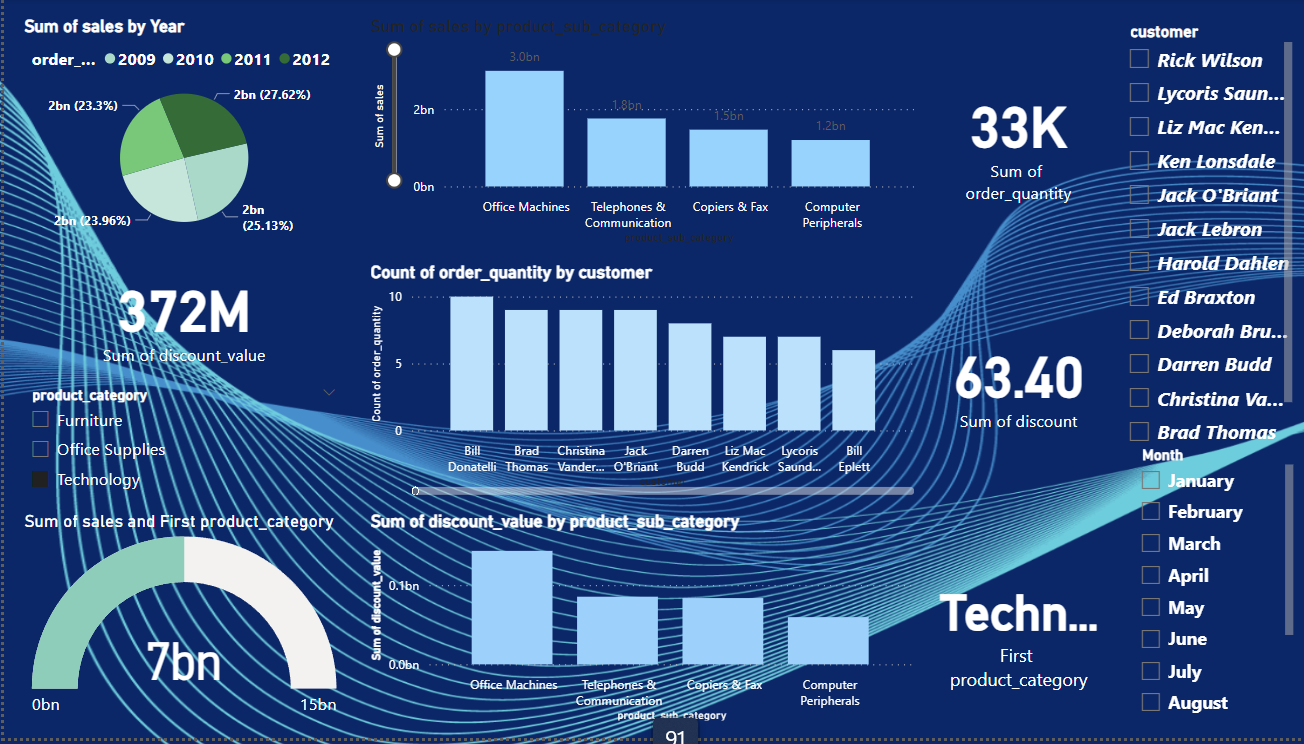

This screenshot's page, from the dashboard's own definition file:
{"tool":"powerbi","page":{"name":"Page 1","canvas":[1280,720],"ordinal":0},"visuals":[{"type":"pieChart","fields":{"Category":["clean_data.order_date.Variation.Date Hierarchy.Year"],"Y":["clean_data.sales"]},"box":[15.1,18.2,321,224.1],"z":0},{"type":"clusteredColumnChart","fields":{"Y":["clean_data.sales"],"Category":["clean_data.product_sub_category"]},"box":[351.3,18.2,539.1,225.6],"z":1},{"type":"card","fields":{"Values":["clean_data.discount_value"]},"box":[15.1,257.4,321,103],"z":2},{"type":"clusteredColumnChart","fields":{"Category":["clean_data.customer"],"Y":["clean_data.order_quantity"]},"box":[351.3,257.4,539.1,231.7],"z":3},{"type":"slicer","fields":{"Values":["clean_data.customer"]},"box":[1084.2,18.2,175.6,433.1],"z":4},{"type":"card","fields":{"Values":["clean_data.order_quantity"]},"box":[902.5,18.2,169.6,224.1],"z":5},{"type":"card","fields":{"Values":["clean_data.discount"]},"box":[902,257,170,232],"z":6},{"type":"gauge","fields":{"Y":["clean_data.sales"]},"box":[15.1,499.7,321,209],"z":7},{"type":"slicer","fields":{"Values":["clean_data.product_category"]},"box":[15.1,372.5,321,116.6],"z":8},{"type":"clusteredColumnChart","fields":{"Category":["clean_data.product_sub_category"],"Y":["clean_data.discount_value"]},"box":[351.3,499.7,539.1,209],"z":9},{"type":"card","fields":{"Values":["clean_data.product_category"]},"box":[902,500,170,209],"z":10},{"type":"slicer","fields":{"Values":["clean_data.order_date.Variation.Date Hierarchy.Month"]},"box":[1094.8,431.5,165,277.1],"z":11}]}

Visuals, with their boxes in screenshot pixels (x1, y1, x2, y2), scaled from the page's 1280x720 canvas onto the 1304x744 screenshot:
pieChart - clean_data.order_date.Variation.Date Hierarchy.Year x clean_data.sales: x1=15 y1=19 x2=342 y2=250
clusteredColumnChart - clean_data.sales x clean_data.product_sub_category: x1=358 y1=19 x2=907 y2=252
card - clean_data.discount_value: x1=15 y1=266 x2=342 y2=372
clusteredColumnChart - clean_data.customer x clean_data.order_quantity: x1=358 y1=266 x2=907 y2=505
slicer - clean_data.customer: x1=1105 y1=19 x2=1283 y2=466
card - clean_data.order_quantity: x1=919 y1=19 x2=1092 y2=250
card - clean_data.discount: x1=919 y1=266 x2=1092 y2=505
gauge - clean_data.sales: x1=15 y1=516 x2=342 y2=732
slicer - clean_data.product_category: x1=15 y1=385 x2=342 y2=505
clusteredColumnChart - clean_data.product_sub_category x clean_data.discount_value: x1=358 y1=516 x2=907 y2=732
card - clean_data.product_category: x1=919 y1=517 x2=1092 y2=733
slicer - clean_data.order_date.Variation.Date Hierarchy.Month: x1=1115 y1=446 x2=1283 y2=732
